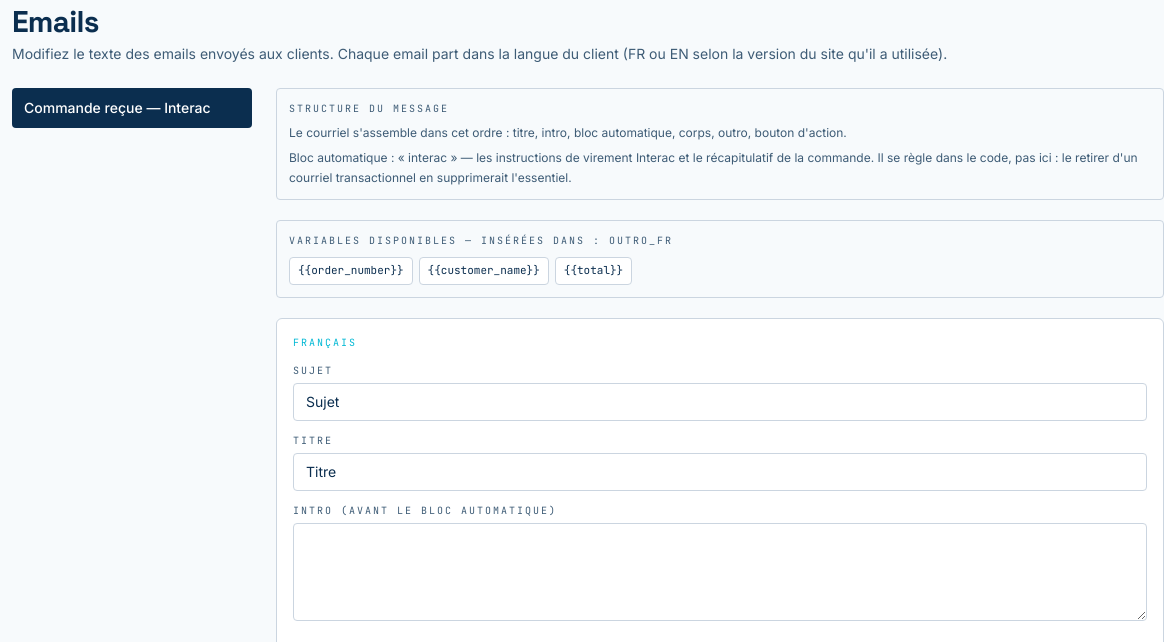
Test: l'intro et l'outro aussi
Click the button with test id "email-var-customer_name" at x=484, y=271, box [419, 257, 549, 285]
(page scrolled)
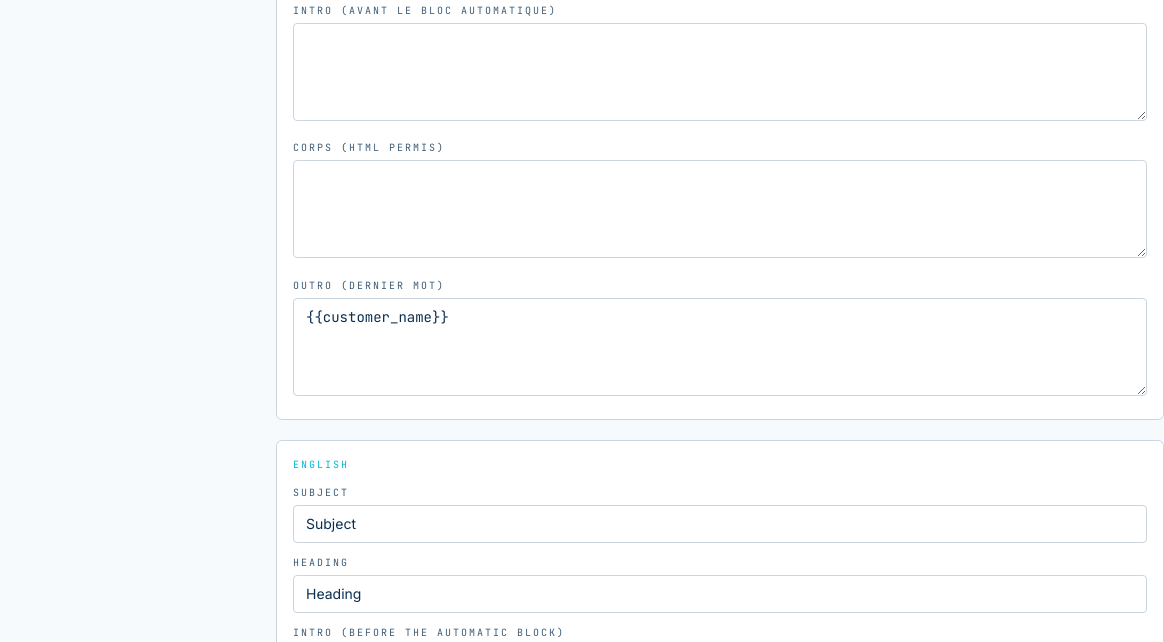
Now the text box with test id "email-outro-fr" holds "{{customer_name}}", box [293, 298, 1147, 396]
